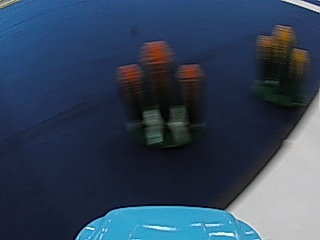corn: (119, 40, 201, 152), (254, 20, 310, 108)
